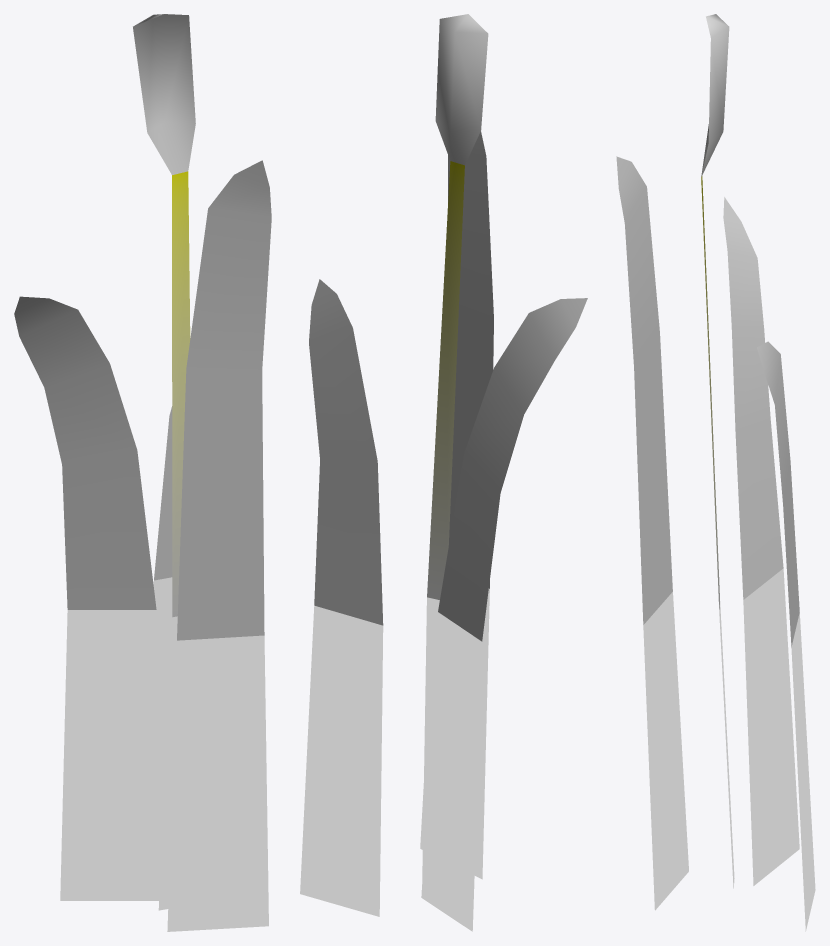
The model's file is prop-forest-water_cattail_01.glb.
3 views of the same model, side by side, from view 1: azimuth 30°, elevation 25°; view 2: azimuth 150°, elevation 25°; view 3: azimuth 270°, elevation 25° (orthographic). The views are drawn at different scales.
Visible parts, largest first — view 1: prop-forest-water_cattail_01; view 2: prop-forest-water_cattail_01; view 3: prop-forest-water_cattail_01.
Part boxes in pixels (x1,y1,x2,y2): prop-forest-water_cattail_01: (14,14,271,931); prop-forest-water_cattail_01: (300,14,587,931); prop-forest-water_cattail_01: (616,14,815,931).
Bounding box in the file's own units: 2.35 × 7.63 × 1.6.
